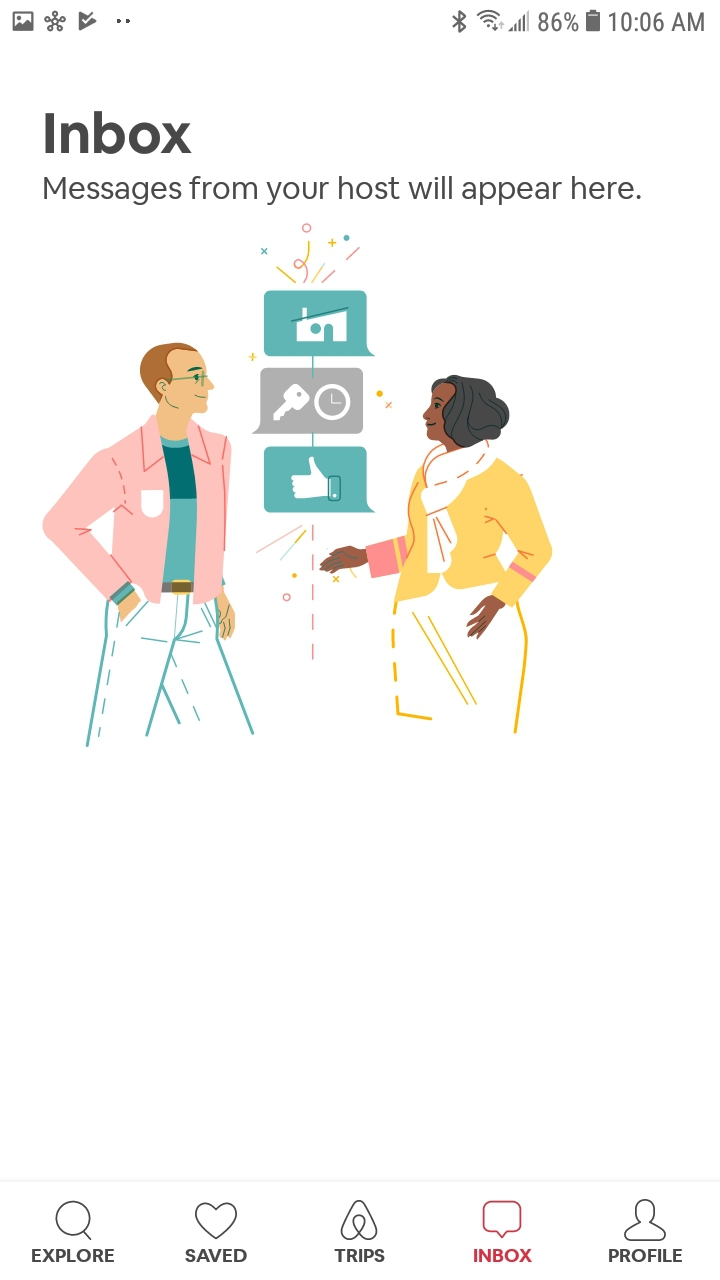Icon: (623, 1199, 666, 1242), (195, 1201, 238, 1239), (481, 1200, 522, 1239), (55, 1200, 93, 1241)
Image: (43, 224, 553, 749), (341, 1200, 379, 1241)
Text: (45, 176, 642, 206), (45, 111, 193, 156), (32, 1249, 115, 1263), (609, 1248, 683, 1263), (185, 1248, 248, 1263), (474, 1249, 533, 1263), (335, 1249, 386, 1263)
UpperTaskBar: (1, 1, 720, 36)
